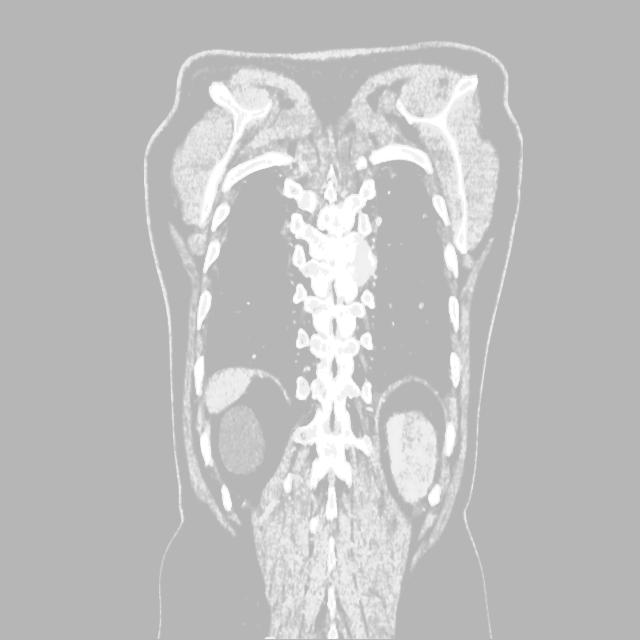TUMOR: (125, 278, 529, 578)
